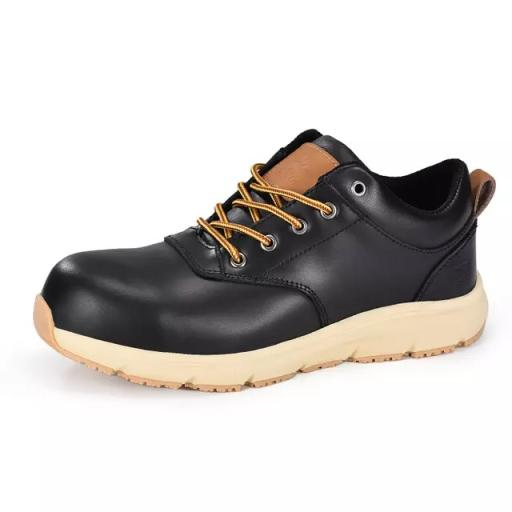safety_boots: (24, 115, 512, 396)
